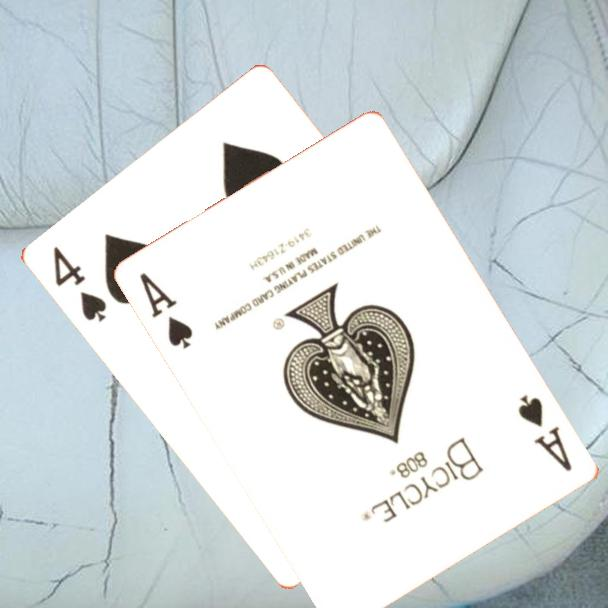s01: (515, 391, 576, 475), (136, 269, 197, 352)
s04: (48, 243, 109, 325)
